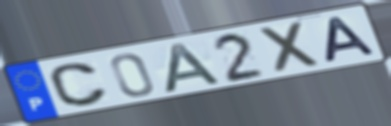0: (108, 52, 156, 99)
2: (213, 30, 267, 84)
A: (162, 41, 226, 95), (324, 14, 380, 65)
C: (47, 61, 110, 109)
X: (256, 19, 325, 76)
